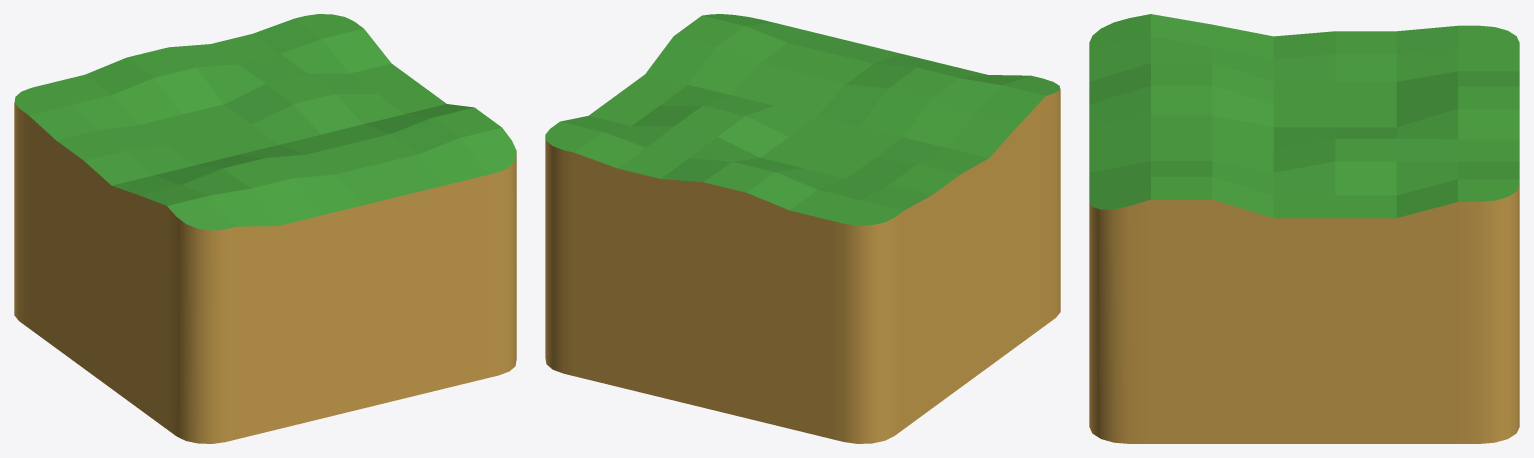
File: Platform_ok_1.fbx
The picture shows the model from 3 angles, left to right: view 1: azimuth 30°, elevation 25°; view 2: azimuth 150°, elevation 25°; view 3: azimuth 270°, elevation 25°; orthographic projection. The views are drawn at different scales.
Parts seen in each view (by area): view 1: Platform_ok_1; view 2: Platform_ok_1; view 3: Platform_ok_1.
Boxes of the visible parts, x1,y1,x2,y2 form: Platform_ok_1: (14, 14, 516, 443); Platform_ok_1: (545, 14, 1060, 443); Platform_ok_1: (1089, 14, 1519, 443).
Bounding box in the file's own units: 347 × 221 × 347.
